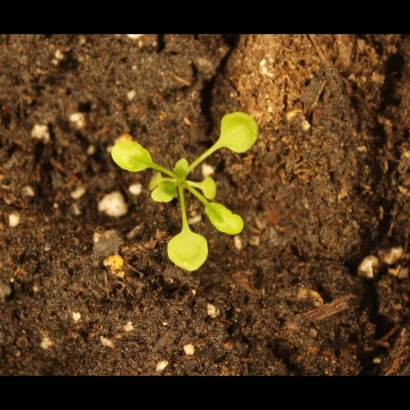leaf: (216, 106, 265, 158), (163, 229, 212, 278), (110, 133, 156, 178), (199, 200, 248, 237), (149, 178, 182, 212), (169, 149, 196, 184), (197, 172, 223, 205)
